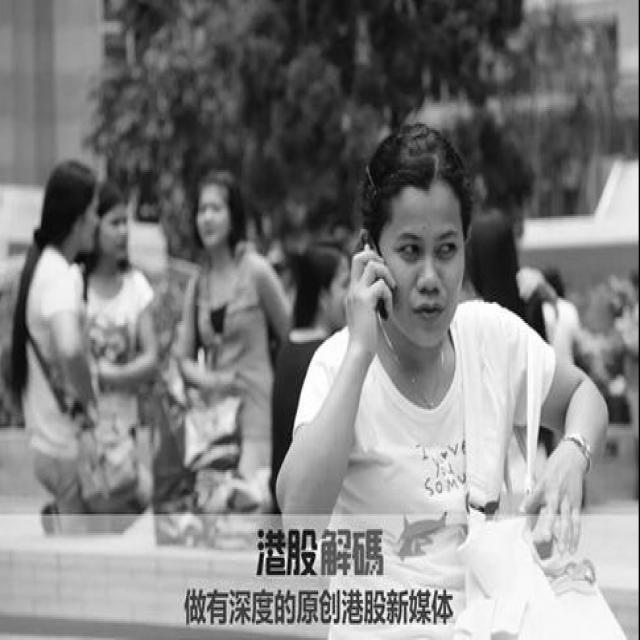phone: (348, 208, 431, 348)
